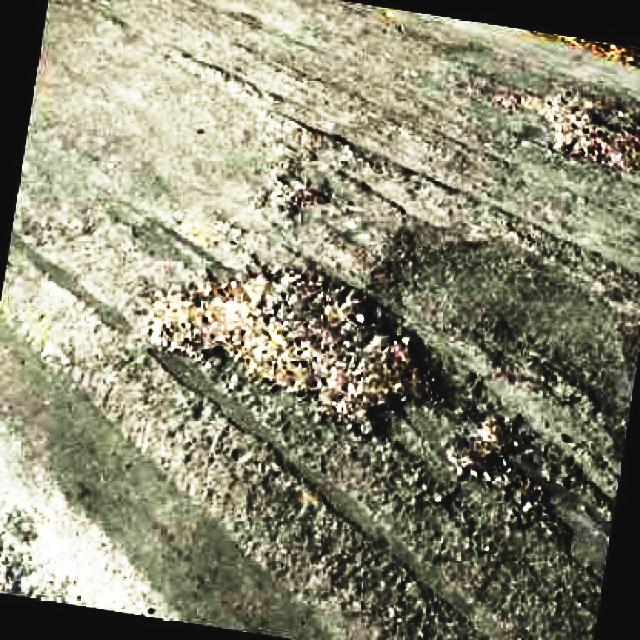pothole: (138, 260, 436, 426), (446, 418, 568, 537), (518, 88, 640, 180)
